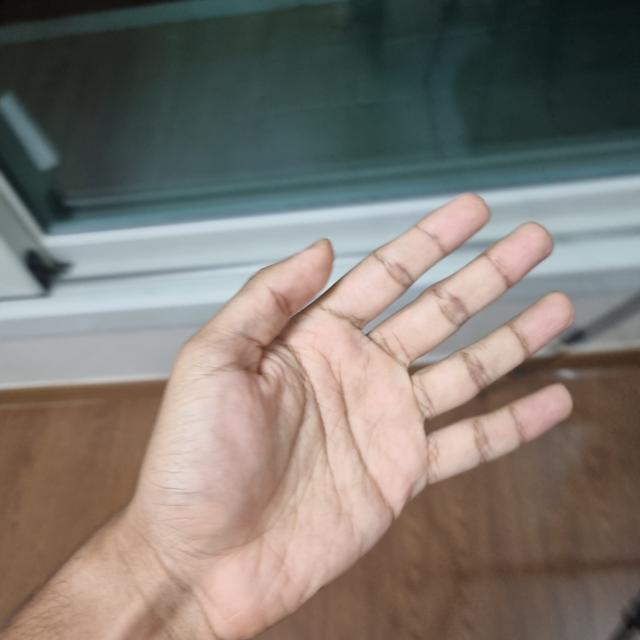Paper: (134, 195, 575, 636)
